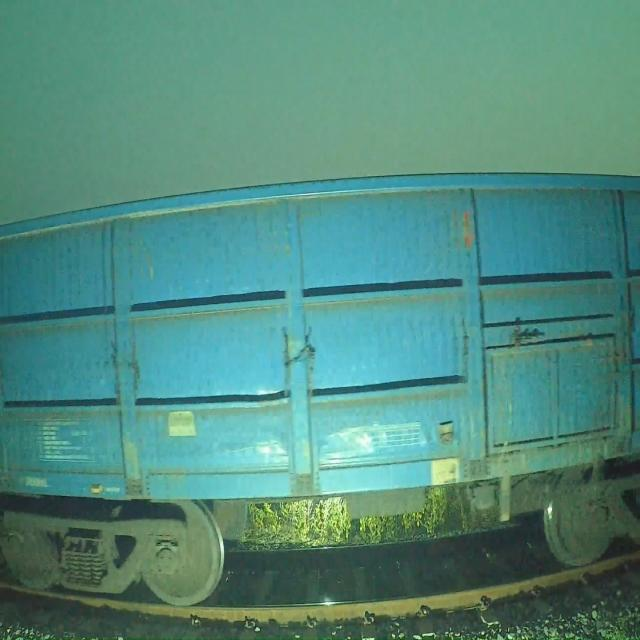WAgon-uic: (0, 171, 640, 606)
